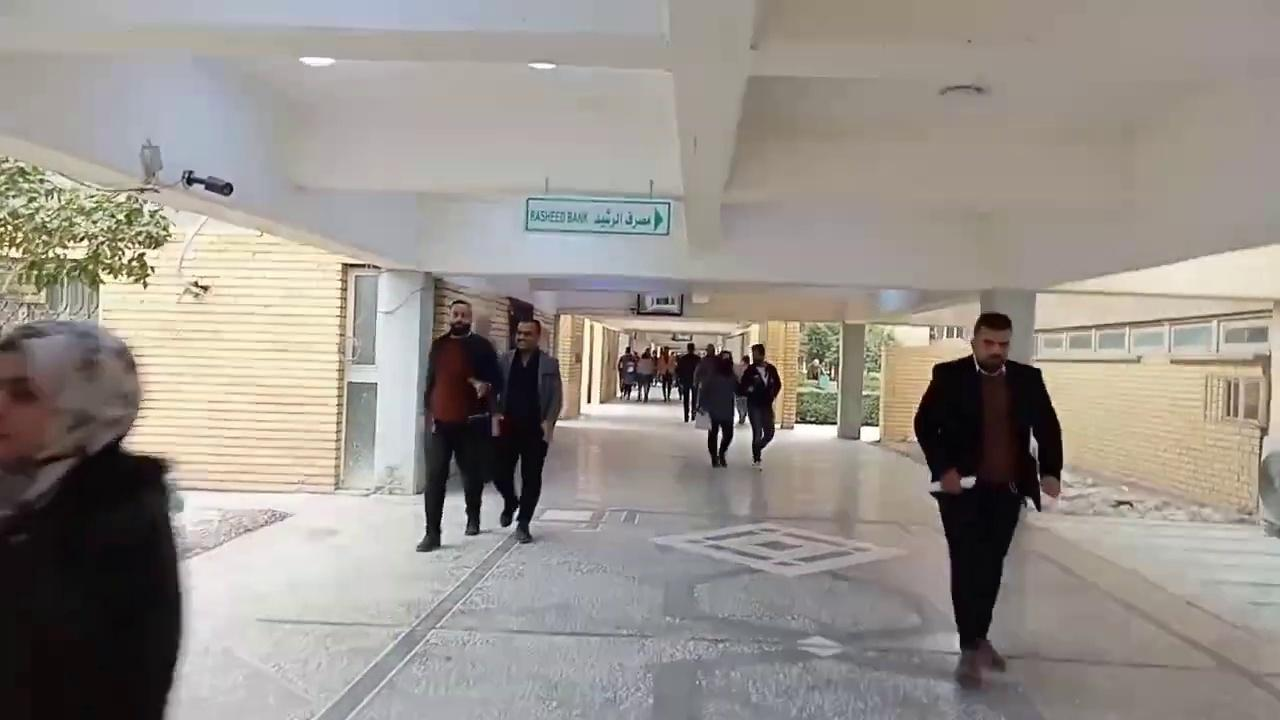person: (0, 319, 182, 718), (913, 311, 1063, 686), (415, 298, 504, 551), (491, 318, 563, 543), (695, 351, 743, 467), (738, 342, 782, 466)
tree: (0, 152, 175, 296), (795, 321, 894, 426), (798, 321, 839, 378)
